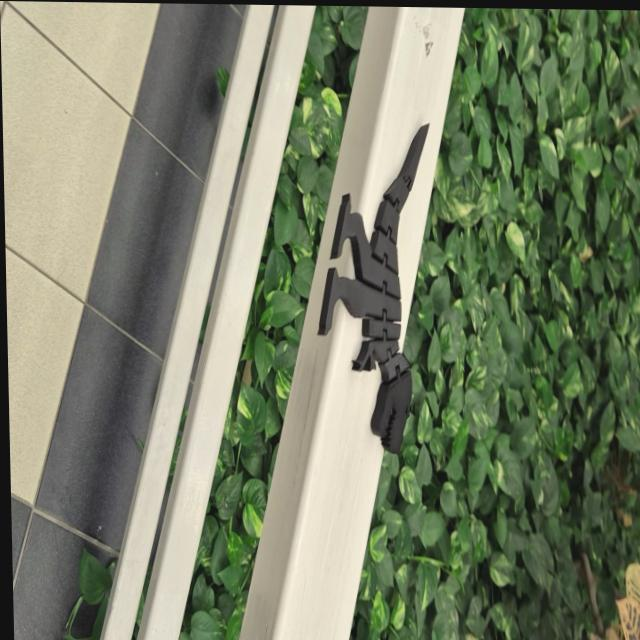dino: (311, 119, 438, 455)
